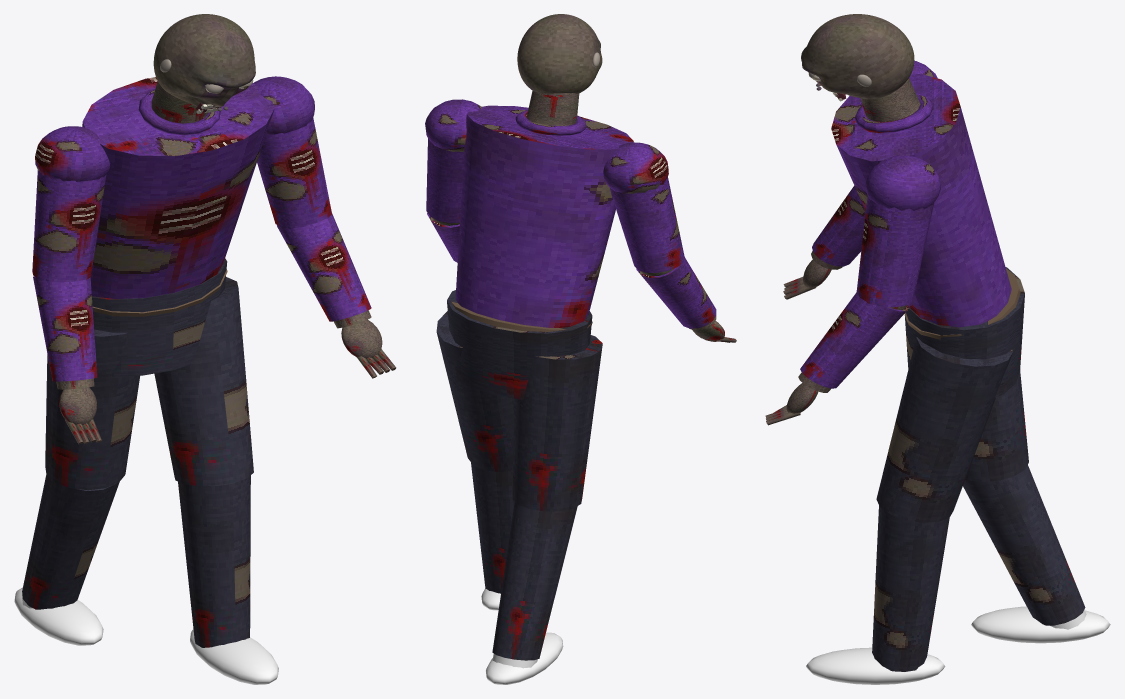
The model's file is Zombie_109.glb.
3 views of the same model, side by side, from view 1: azimuth 30°, elevation 25°; view 2: azimuth 150°, elevation 25°; view 3: azimuth 270°, elevation 25° (orthographic). The views are drawn at different scales.
Parts seen in each view (by area): view 1: Zombie_109, object 18, object 4, object 12, object 13, object 5; view 2: Zombie_109, object 18, object 4, object 12; view 3: Zombie_109, object 18, object 12, object 4, object 13, object 5.
Boxes of the visible parts, x1,y1,x2,y2 form: Zombie_109: [14, 76, 332, 684]; object 18: [153, 14, 255, 107]; object 4: [33, 276, 97, 381]; object 12: [277, 213, 371, 321]; object 13: [341, 319, 382, 358]; object 5: [59, 387, 96, 424]; Zombie_109: [425, 91, 684, 684]; object 18: [517, 14, 602, 93]; object 4: [636, 257, 716, 328]; object 12: [427, 213, 459, 262]; Zombie_109: [806, 61, 1110, 684]; object 18: [801, 14, 914, 99]; object 12: [800, 292, 908, 388]; object 4: [812, 185, 865, 266]; object 13: [786, 383, 818, 413]; object 5: [803, 259, 831, 288].
Size of the model in its own units: 0.7875 by 1.61 by 0.7777.
Materials: 15 (5 with a texture image).
